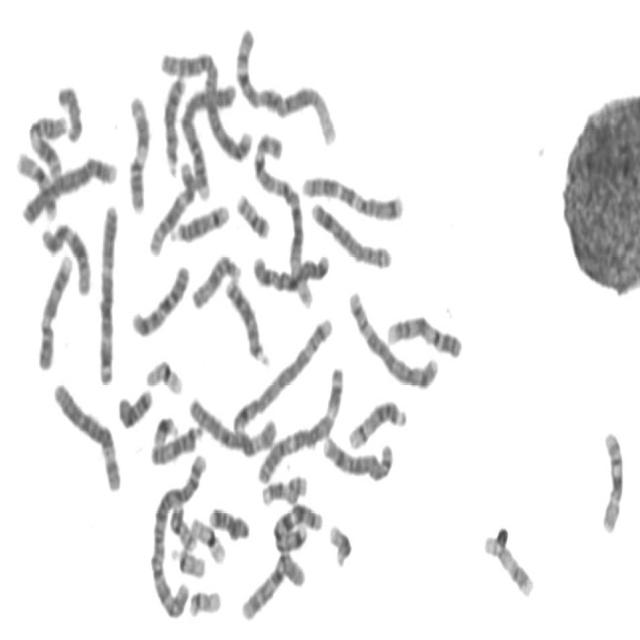A1: (230, 19, 340, 148), (249, 126, 315, 308)
A2: (155, 41, 255, 165), (146, 447, 210, 622)
A3: (254, 359, 347, 486), (94, 196, 122, 387)
B4: (178, 74, 240, 202), (17, 148, 119, 225)
B5: (229, 308, 334, 434), (345, 283, 441, 392)
C10: (236, 546, 308, 625), (128, 257, 192, 340)
C11: (124, 88, 152, 216), (25, 107, 69, 181)
C12: (146, 154, 198, 258), (38, 215, 94, 298)
C6: (50, 374, 124, 495), (186, 390, 281, 458)
C7: (298, 168, 407, 224), (270, 496, 326, 554)
C8: (308, 195, 394, 270), (319, 428, 395, 483)
C9: (34, 247, 75, 372), (383, 307, 465, 361)
D13: (222, 270, 272, 369), (160, 69, 188, 177)
D14: (345, 393, 409, 452), (168, 197, 232, 245)
D15: (188, 247, 243, 312), (147, 417, 205, 466)
E16: (12, 146, 60, 222), (597, 423, 627, 535)
E17: (481, 526, 536, 600), (258, 468, 310, 508)
E18: (206, 500, 252, 543), (114, 381, 154, 430)
F19: (187, 511, 228, 567), (142, 352, 185, 397)
F20: (233, 185, 272, 241), (166, 499, 198, 553)
G21: (325, 517, 354, 570), (149, 408, 180, 450)
G22: (167, 540, 207, 580), (186, 582, 223, 619)
X: (249, 244, 332, 294)
